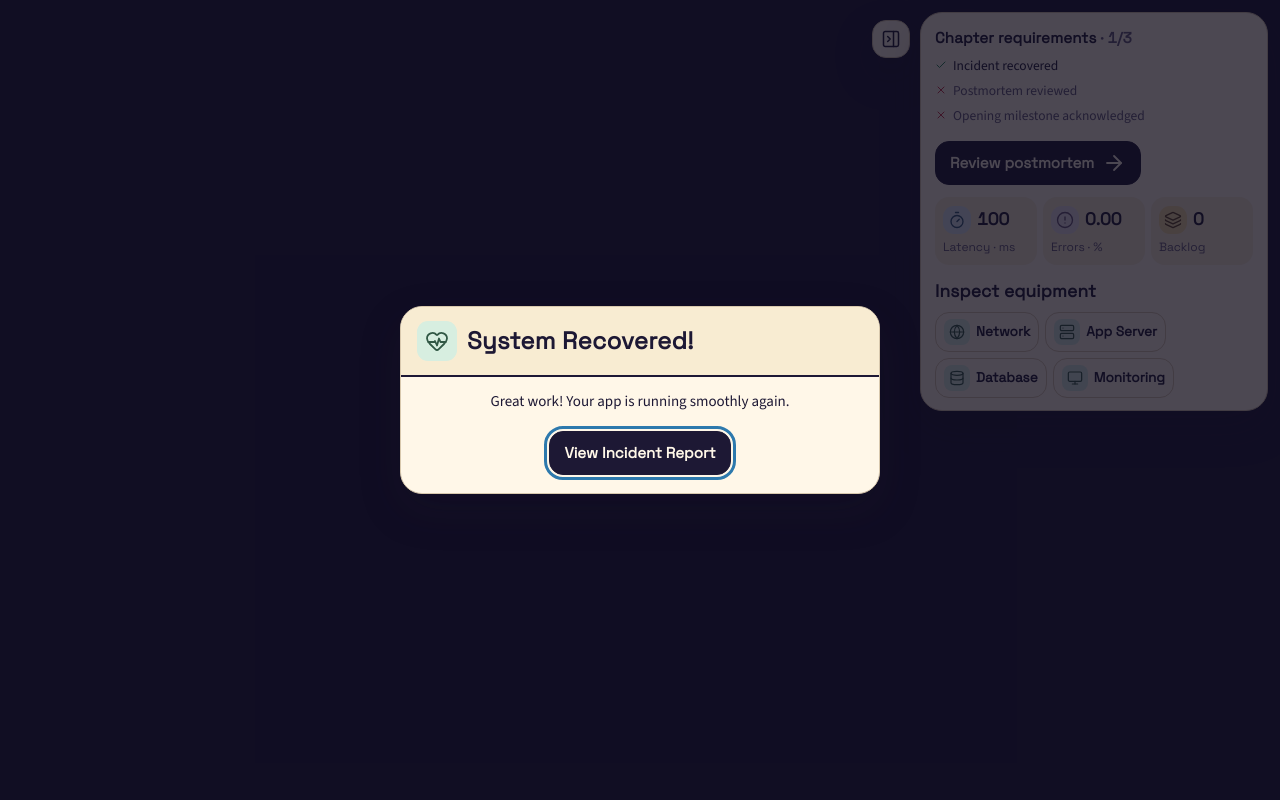
Test: keeps a pending postmortem in front of the guidance
The image size is (1280, 800).
Expected: the dialog "System Recovered!" is shown, 400,306 -> 880,494
Click the button "View Incident Report": (640, 453) 549,431 -> 731,475
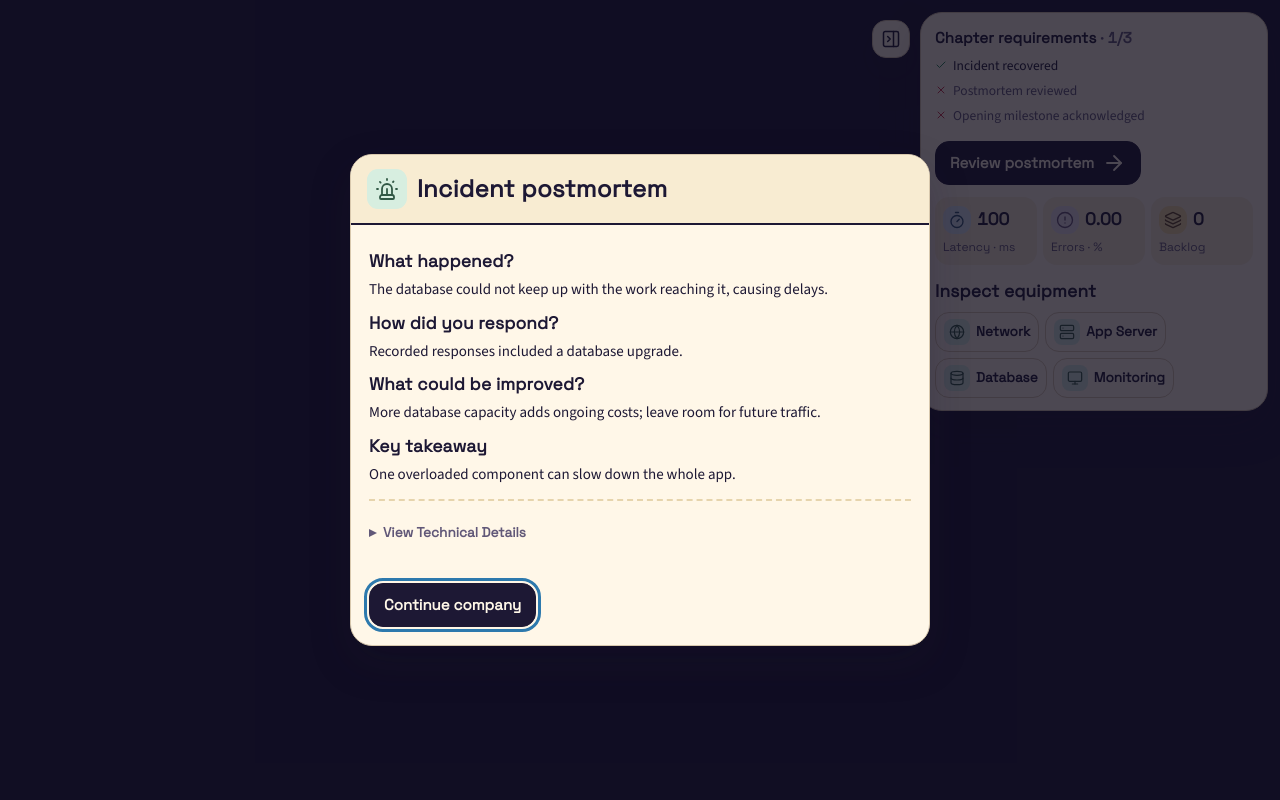
Now the dialog "Incident postmortem" is shown, box 350,154 -> 930,646
